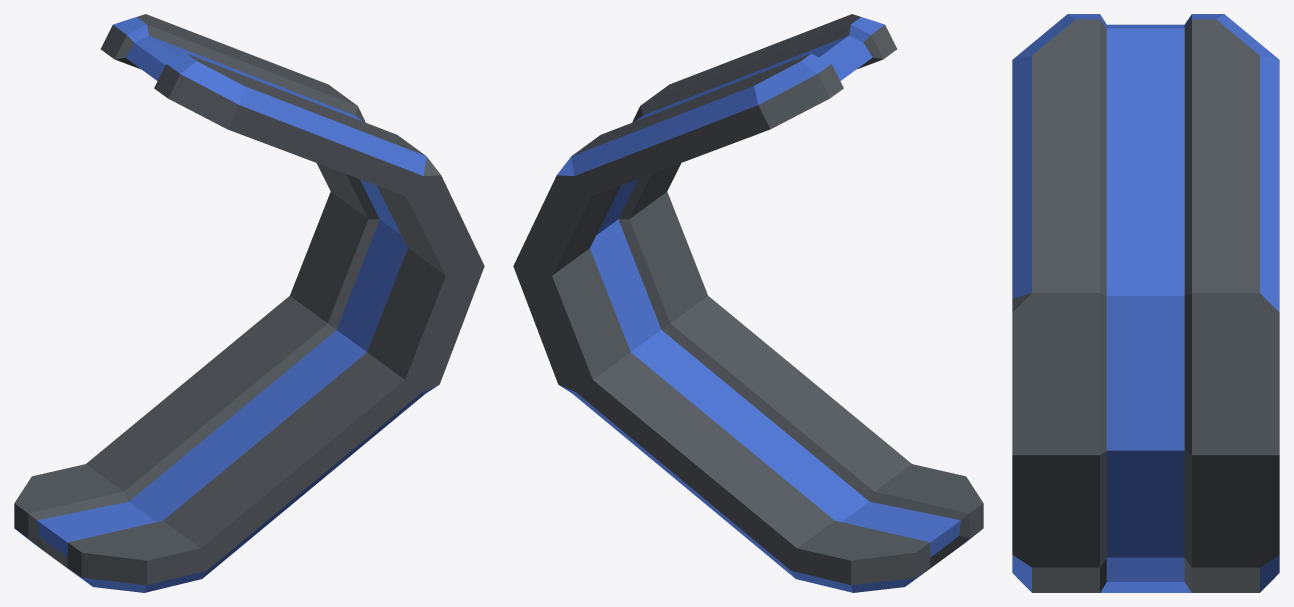
The model's file is Mothership_02_Thrust_Frame_Blue.fbx.
3 renders of one model, left to right at view 1: azimuth 30°, elevation 25°; view 2: azimuth 150°, elevation 25°; view 3: azimuth 270°, elevation 25°, orthographic. The views are drawn at different scales.
Visible parts, largest first — view 1: Mothership_02_Thrust_Frame_Blue; view 2: Mothership_02_Thrust_Frame_Blue; view 3: Mothership_02_Thrust_Frame_Blue.
Part boxes in pixels (x1=…): Mothership_02_Thrust_Frame_Blue: x1=14, y1=14, x2=484, y2=592; Mothership_02_Thrust_Frame_Blue: x1=513, y1=14, x2=983, y2=592; Mothership_02_Thrust_Frame_Blue: x1=1012, y1=14, x2=1279, y2=592.
Bounding box in the file's own units: 373 × 471 × 196.
1 material, 1 textured.
